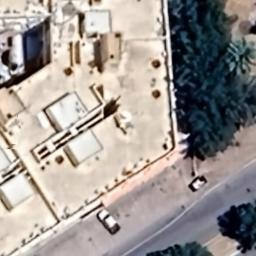pickup: (97, 207, 122, 236)
